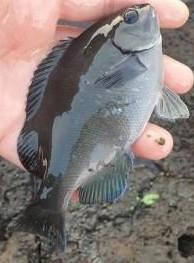fish: (17, 4, 190, 254)
